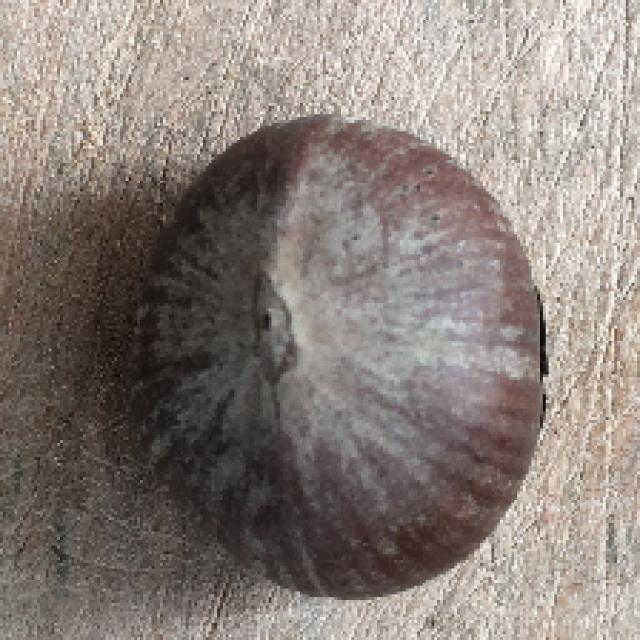damagedHazelnut: (124, 103, 564, 605)
